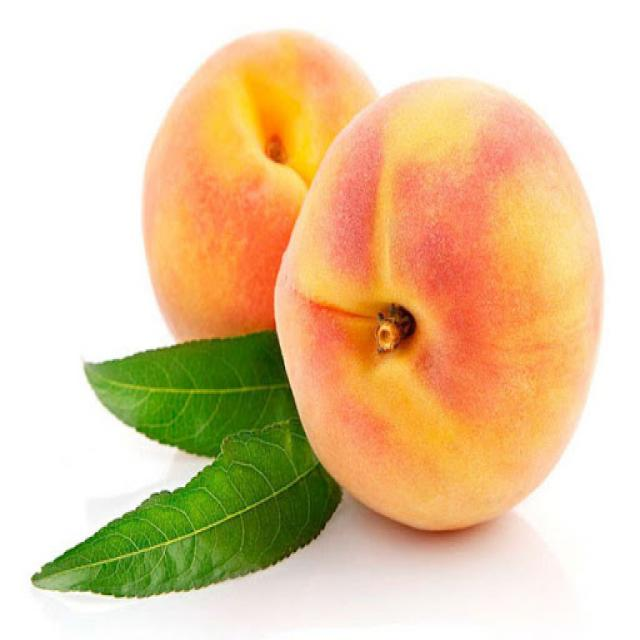peach: (274, 78, 605, 532), (140, 30, 376, 341)
